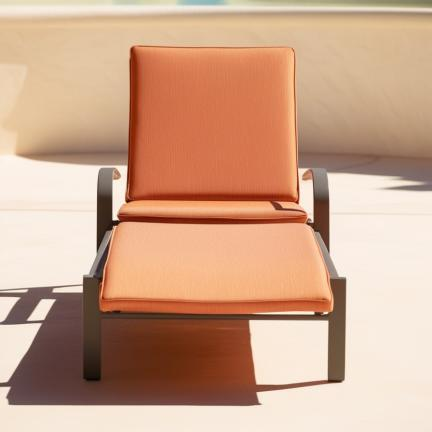empty chair: (83, 47, 346, 381)
